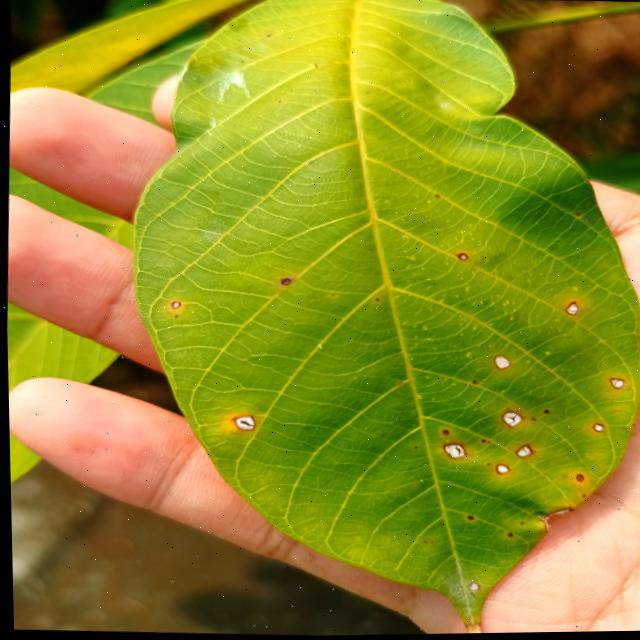Colletotrichum: (440, 443, 465, 460), (230, 415, 254, 432), (499, 412, 522, 429), (492, 356, 508, 371), (513, 446, 531, 459), (607, 378, 622, 391), (562, 304, 577, 317), (492, 465, 507, 476), (464, 583, 476, 592), (590, 425, 600, 434), (169, 301, 179, 309), (456, 254, 466, 262), (279, 279, 290, 286), (573, 475, 582, 483), (440, 430, 446, 436), (464, 516, 471, 521), (504, 534, 510, 538), (479, 440, 483, 444)
Leaf-Blight: (462, 624, 480, 635)
